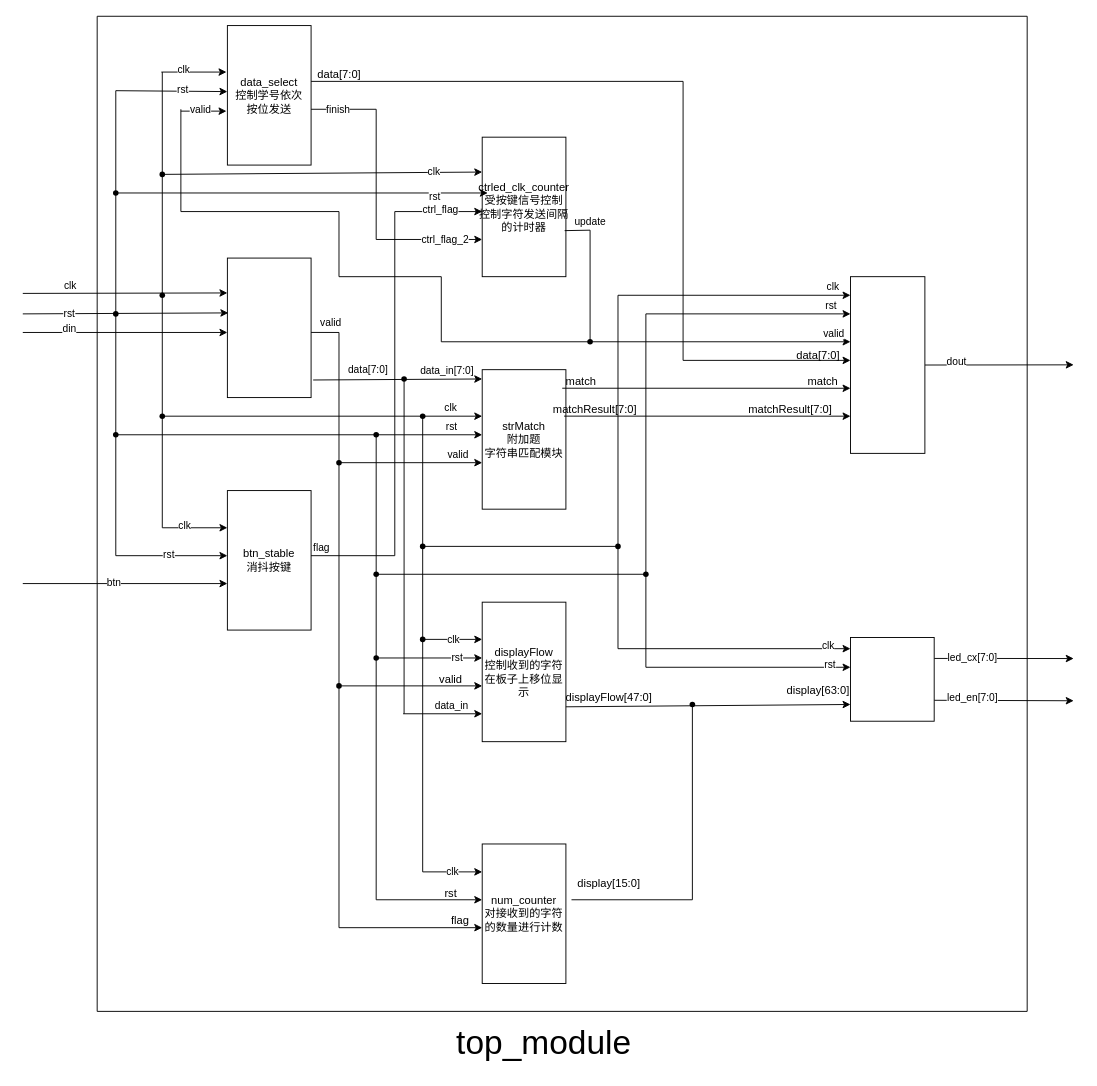
This 1097x1086 diagram has some shape labels left out. The centre of each missing label's shape, as x and y in pixels:
led_ctrl_unit: point (892, 679)
uart_recv: point (268, 327)
uart_send: point (887, 364)
